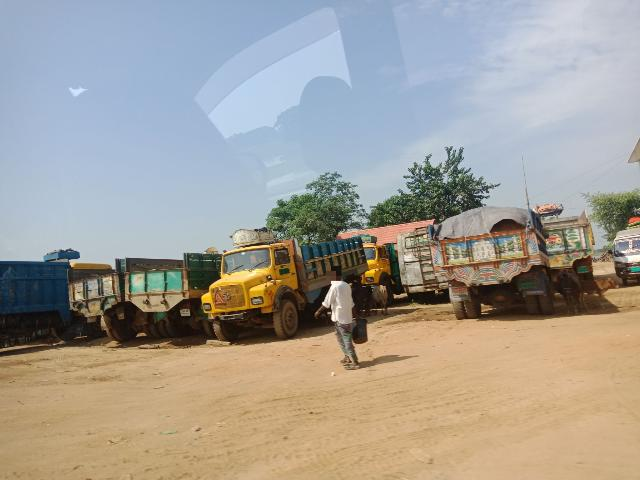bus: (396, 228, 443, 302)
truck: (203, 237, 359, 340), (433, 208, 549, 323), (126, 245, 211, 348), (1, 244, 71, 353), (540, 198, 599, 297), (65, 261, 127, 352), (364, 233, 401, 303)
